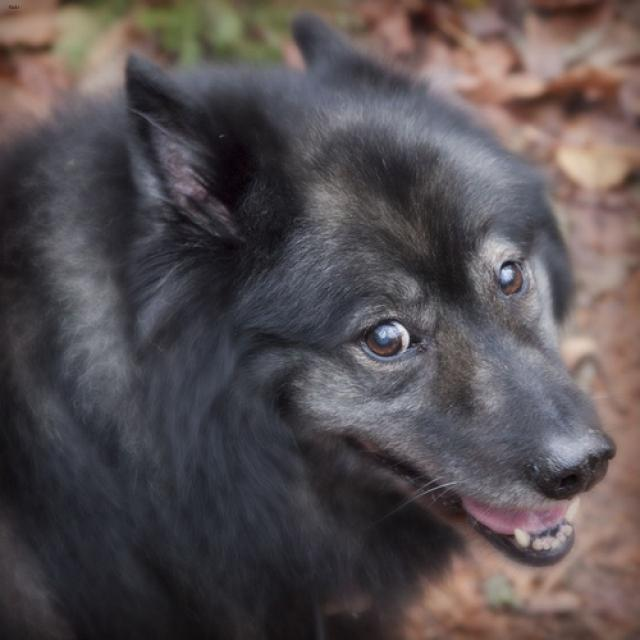dog-keeshond: (1, 1, 623, 637)
